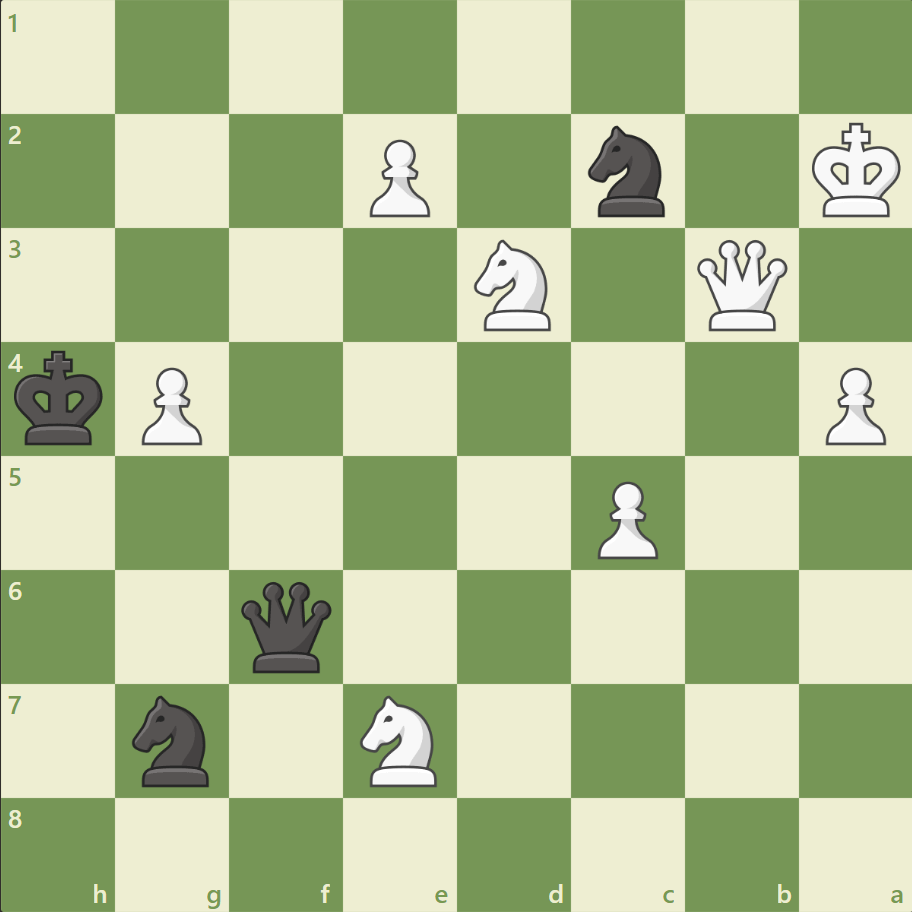K: (806, 117, 906, 225)
N: (351, 688, 449, 791), (465, 234, 562, 337)
P: (133, 359, 208, 450), (588, 473, 662, 564), (815, 359, 889, 450), (361, 132, 435, 223)
Q: (691, 236, 790, 335)
k: (11, 344, 111, 452)
n: (124, 688, 222, 791), (579, 121, 676, 223)
q: (237, 576, 336, 676)
